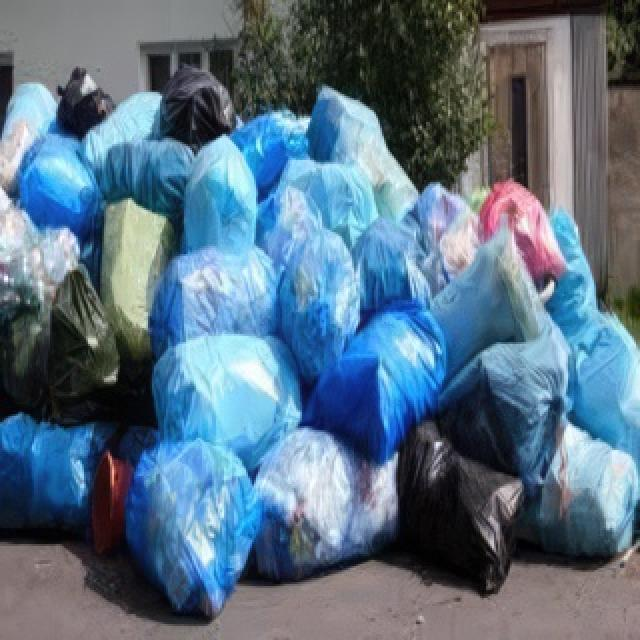Trashbag: (381, 428, 530, 599), (41, 273, 120, 423), (146, 68, 239, 153), (54, 68, 119, 138)
